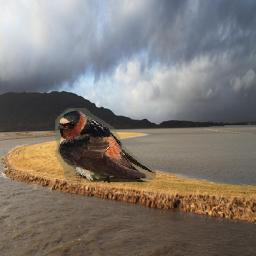Swallow: (56, 109, 157, 184)
